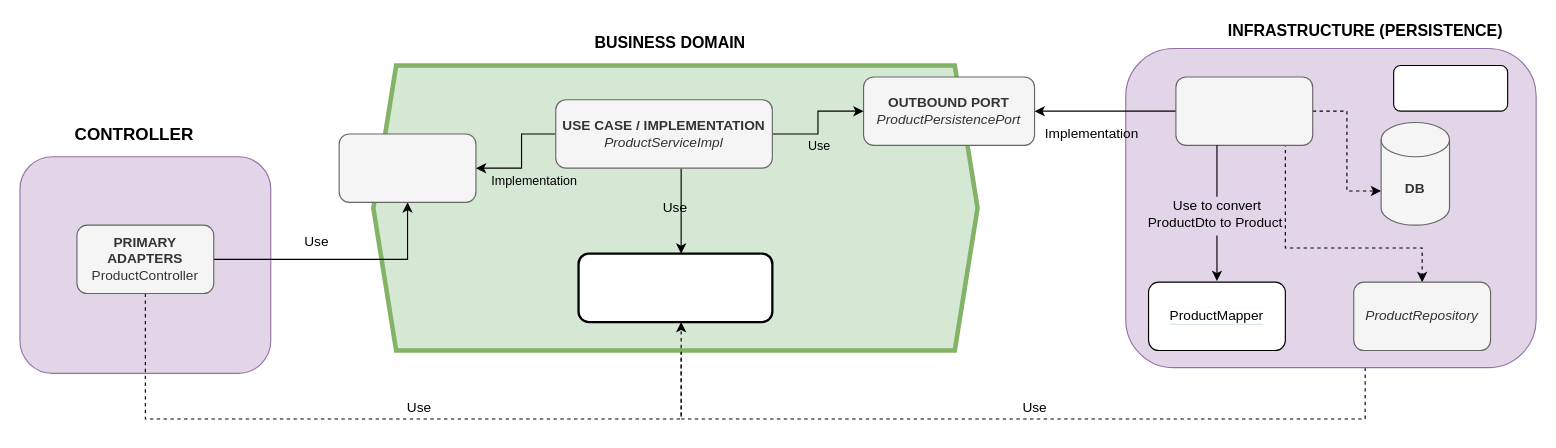
Image size: 1556x448. Some labels were removed from this diagram. Here are the shapes that lost their labels. From the top down, the centre of each, then its label:
At point 1450,87: "Database Entity Product".
At point 1244,110: "SECONDARY ADAPTERS ProductJpaAdapter".
At point 407,167: "INBOUND PORT ProductServicePort".
At point 675,287: "DOMAIN ProductDto".
